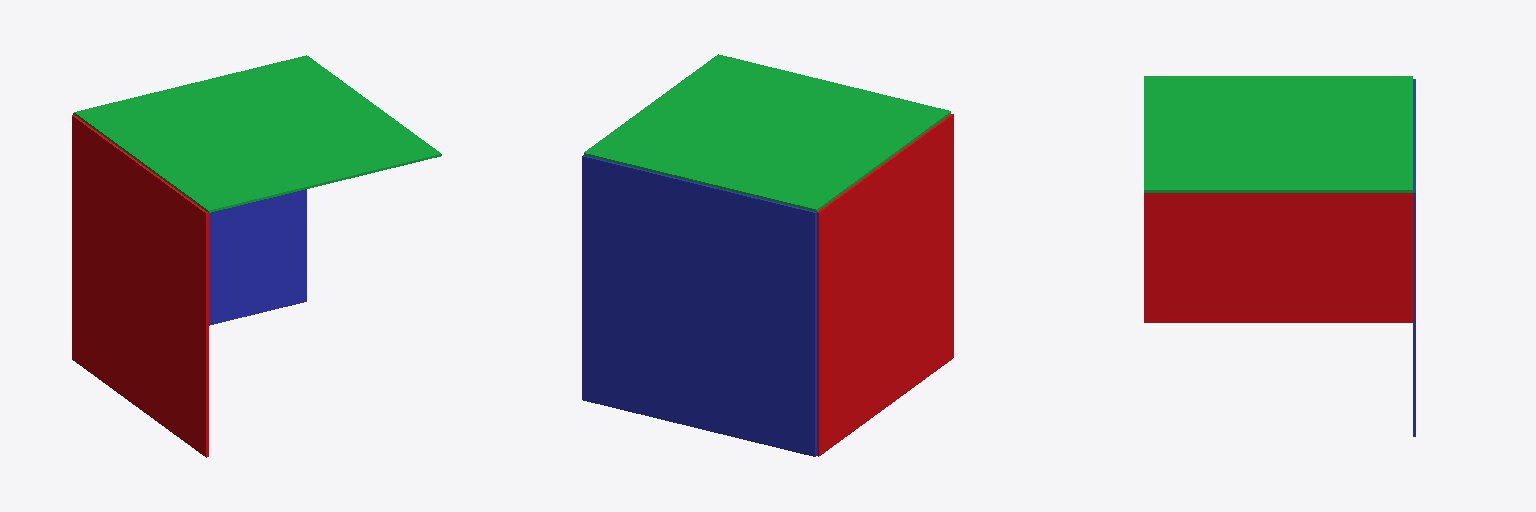
File: Backgroud.obj
3 renders of one model, left to right at view 1: azimuth 30°, elevation 25°; view 2: azimuth 150°, elevation 25°; view 3: azimuth 270°, elevation 25°, orthographic.
Visible parts, largest first — view 1: Object.2, Object.3, Object.1; view 2: Object.1, Object.2, Object.3; view 3: Object.2, Object.3, Object.1.
Boxes of the visible parts, box(x1,y1,x2,y2) form: Object.2: box(72, 115, 208, 457); Object.3: box(74, 55, 441, 212); Object.1: box(73, 113, 306, 325); Object.1: box(582, 155, 816, 456); Object.2: box(817, 114, 953, 456); Object.3: box(584, 54, 950, 211); Object.2: box(1144, 193, 1412, 322); Object.3: box(1144, 76, 1412, 192); Object.1: box(1413, 79, 1415, 436).
Size of the model in its own units: 1010 by 1010 by 1010.